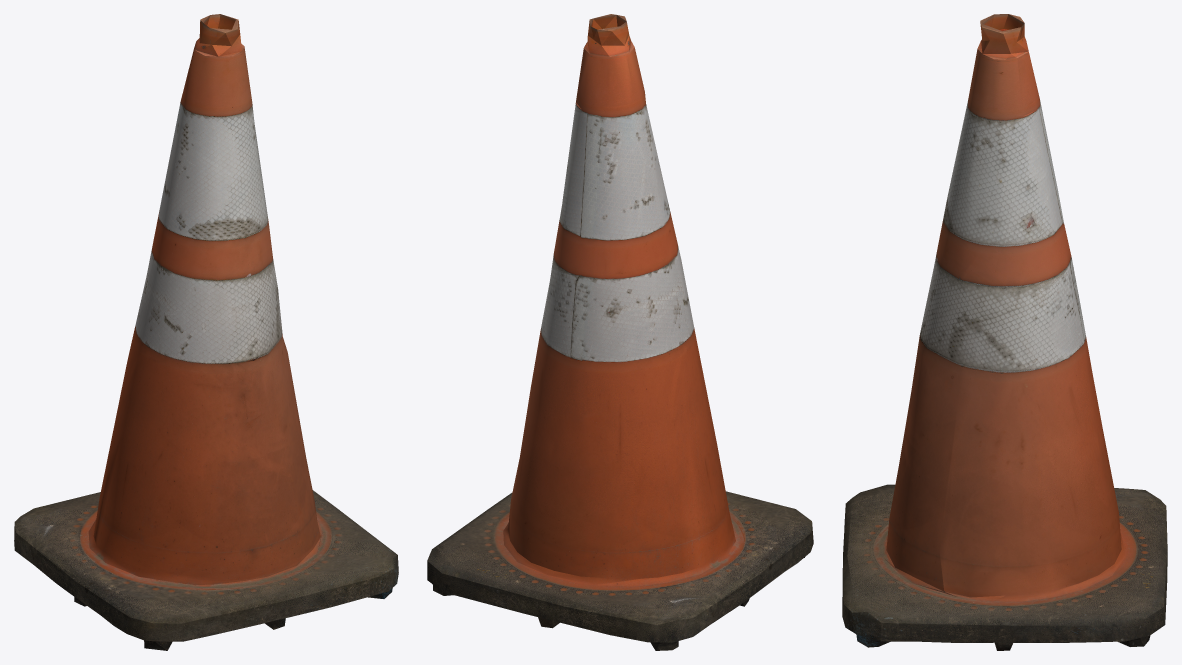
The model's file is SM_JiaoTongZhui.glb.
The picture shows the model from 3 angles, left to right: view 1: azimuth 30°, elevation 25°; view 2: azimuth 150°, elevation 25°; view 3: azimuth 270°, elevation 25°; orthographic projection. The views are drawn at different scales.
Visible parts, largest first — view 1: SM_JiaoTongZhui; view 2: SM_JiaoTongZhui; view 3: SM_JiaoTongZhui.
Boxes of the visible parts, box(x1,y1,x2,y2) form: SM_JiaoTongZhui: box(14, 14, 398, 650); SM_JiaoTongZhui: box(427, 14, 813, 650); SM_JiaoTongZhui: box(842, 14, 1167, 650).
Size of the model in its own units: 0.3539 by 0.6877 by 0.3537.
1 material, 1 textured.
